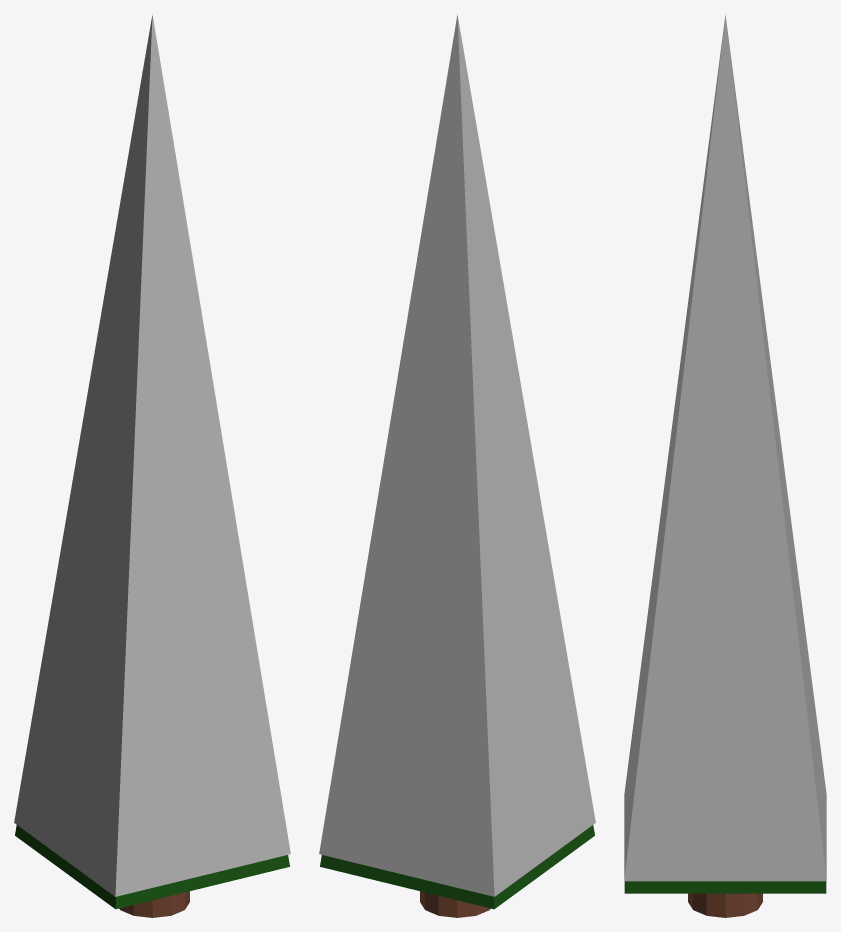
File: Tree_19_winter_vc.fbx
3 views of the same model, side by side, from view 1: azimuth 30°, elevation 25°; view 2: azimuth 150°, elevation 25°; view 3: azimuth 270°, elevation 25° (orthographic).
Parts seen in each view (by area): view 1: Tree_19_winter_vc; view 2: Tree_19_winter_vc; view 3: Tree_19_winter_vc.
Boxes of the visible parts, left/top/right/bottom form: Tree_19_winter_vc: left=14, top=14, right=290, bottom=917; Tree_19_winter_vc: left=319, top=14, right=595, bottom=917; Tree_19_winter_vc: left=624, top=14, right=826, bottom=917.
Size of the model in its own units: 1.56 by 7.55 by 1.56.
